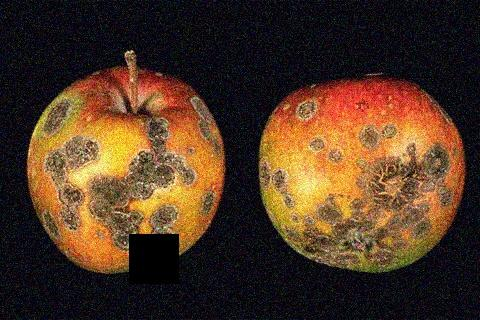rotten apple: (255, 62, 468, 277), (22, 61, 227, 277)
